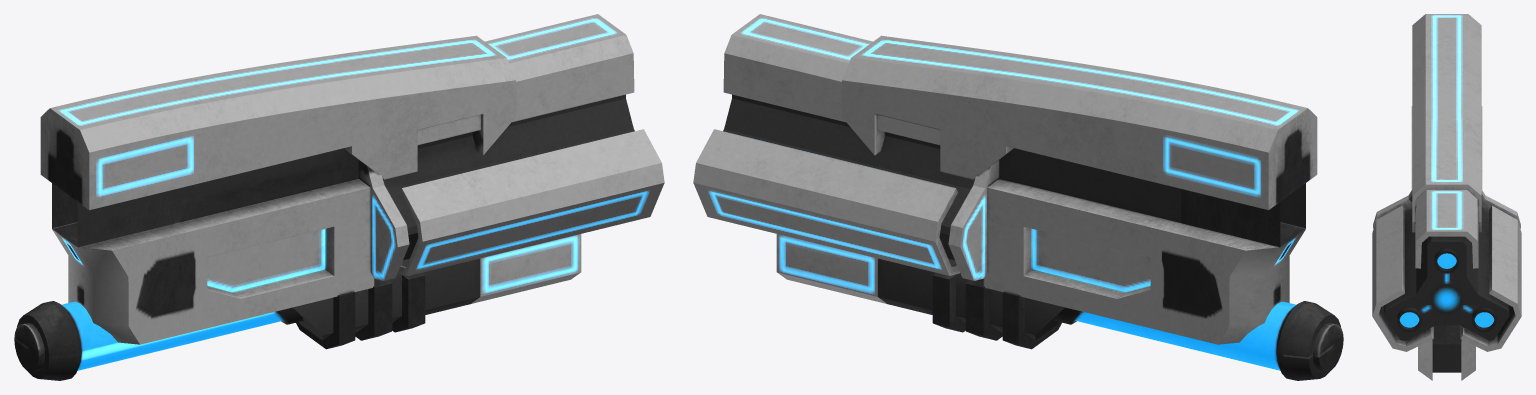
File: Shoot.fbx
The picture shows the model from 3 angles, left to right: view 1: azimuth 30°, elevation 25°; view 2: azimuth 150°, elevation 25°; view 3: azimuth 270°, elevation 25°; orthographic projection. The views are drawn at different scales.
Visible parts, largest first — view 1: defaultMaterial; view 2: defaultMaterial; view 3: defaultMaterial.
Boxes of the visible parts, box(x1,y1,x2,y2) form: defaultMaterial: box(14, 14, 664, 380); defaultMaterial: box(693, 14, 1343, 380); defaultMaterial: box(1372, 14, 1521, 380).
Bounding box in the file's own units: 62.99 × 28.52 × 19.29.
